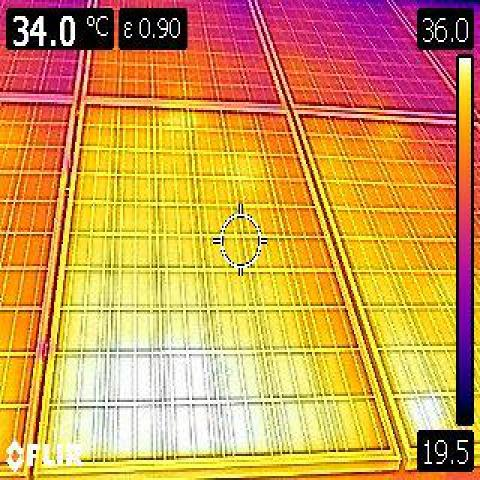fault: (62, 348, 265, 454), (404, 397, 444, 428)
